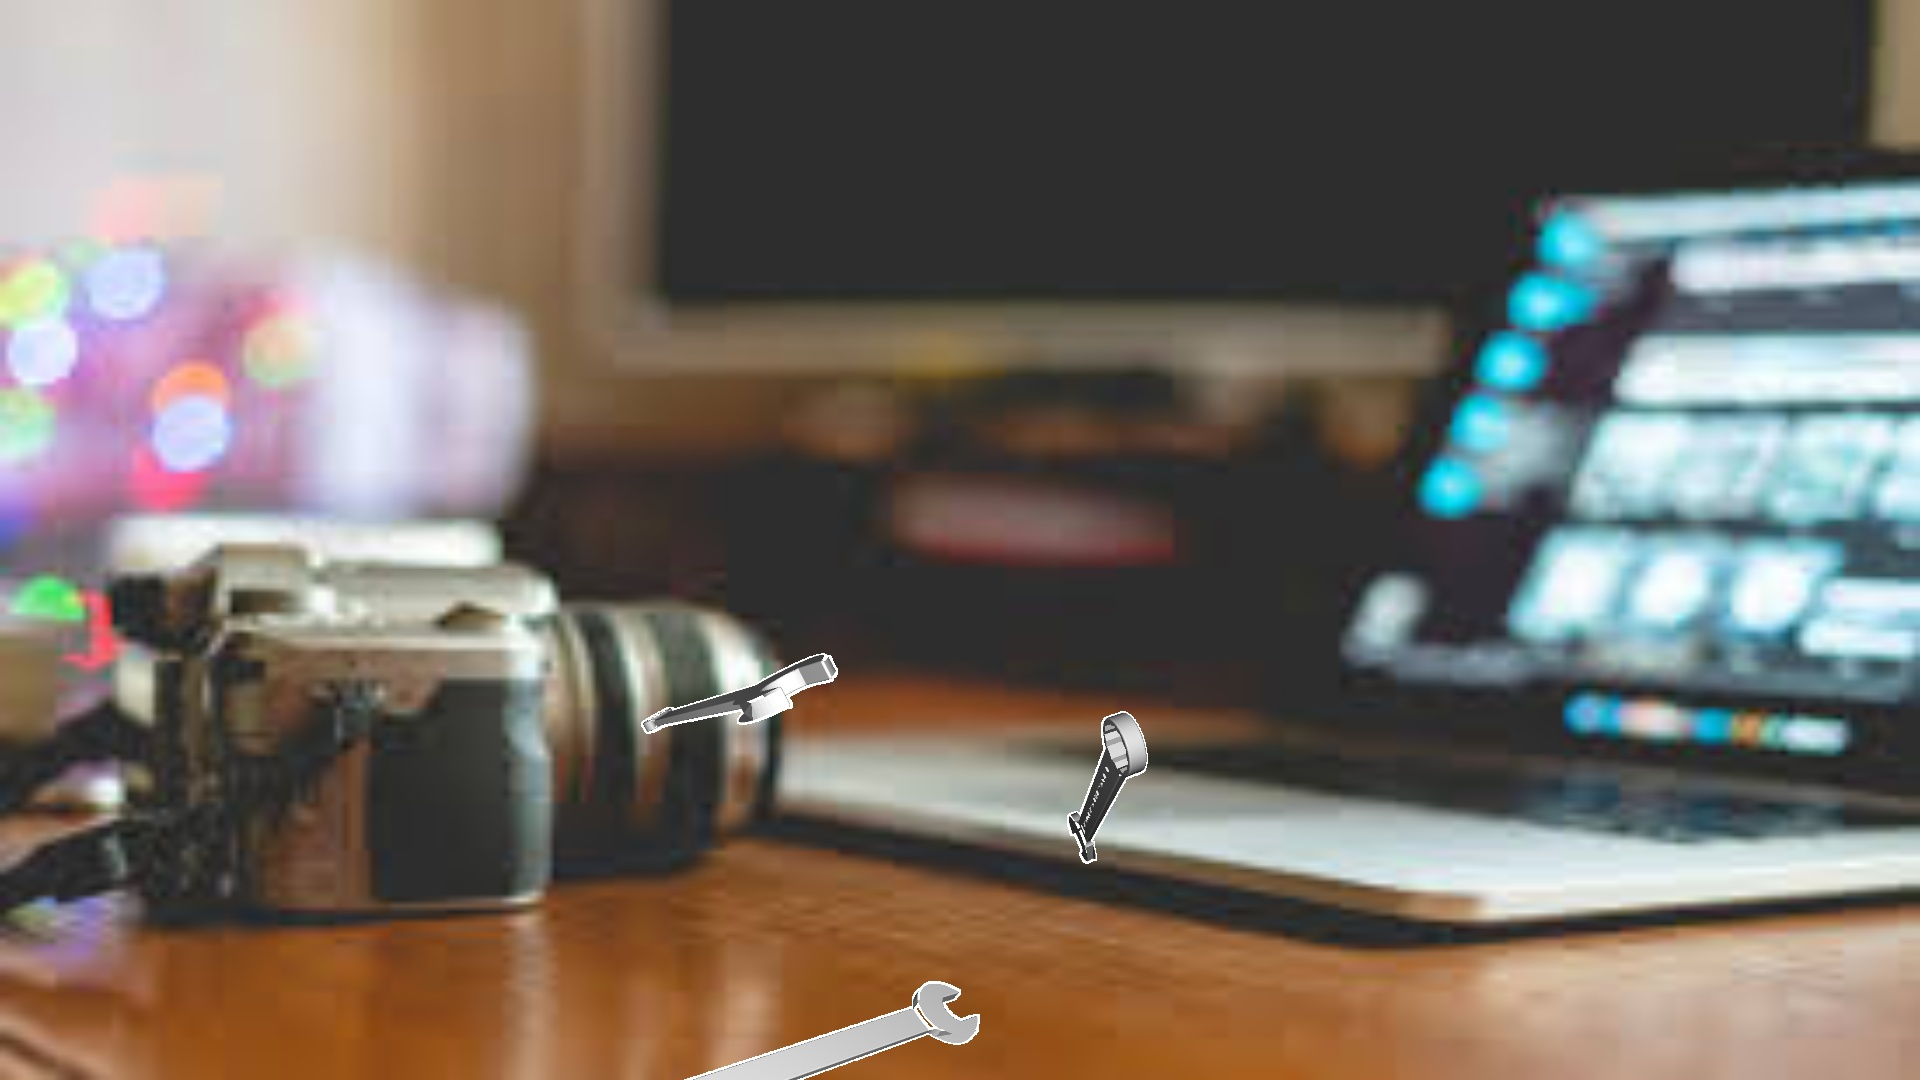Mixed Key: (684, 981, 979, 1079), (641, 653, 837, 733), (1067, 711, 1147, 863)
